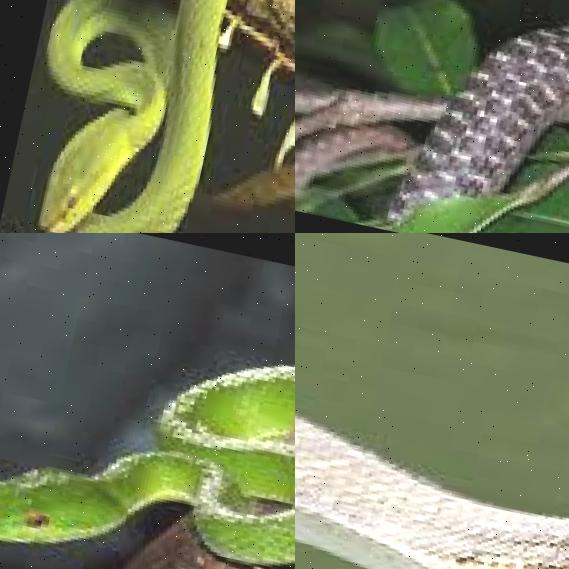snake: (0, 233, 295, 569), (295, 300, 569, 569), (0, 0, 295, 233), (295, 0, 569, 233)
